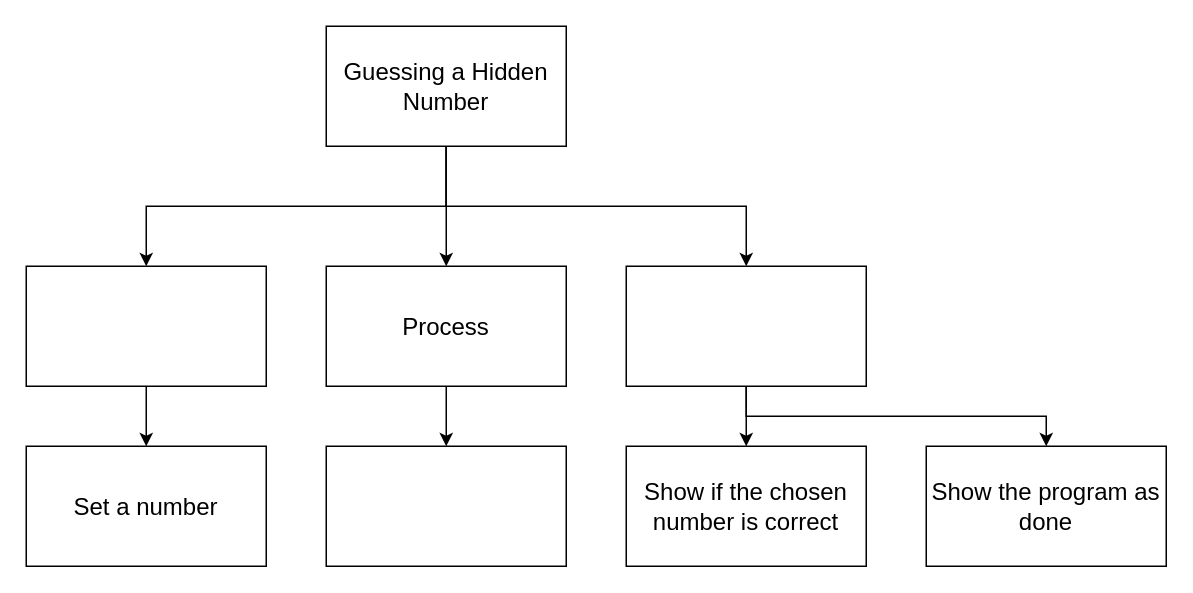
Some shapes in this 1193 by 593 pixel diagram are drawn without their labels. The centre of each missing label's shape, as x and y in pixels:
"Check if the number is equal to the hidden number" belongs at pixel 445 505.
"Input" belongs at pixel 145 325.
"Output" belongs at pixel 745 325.
